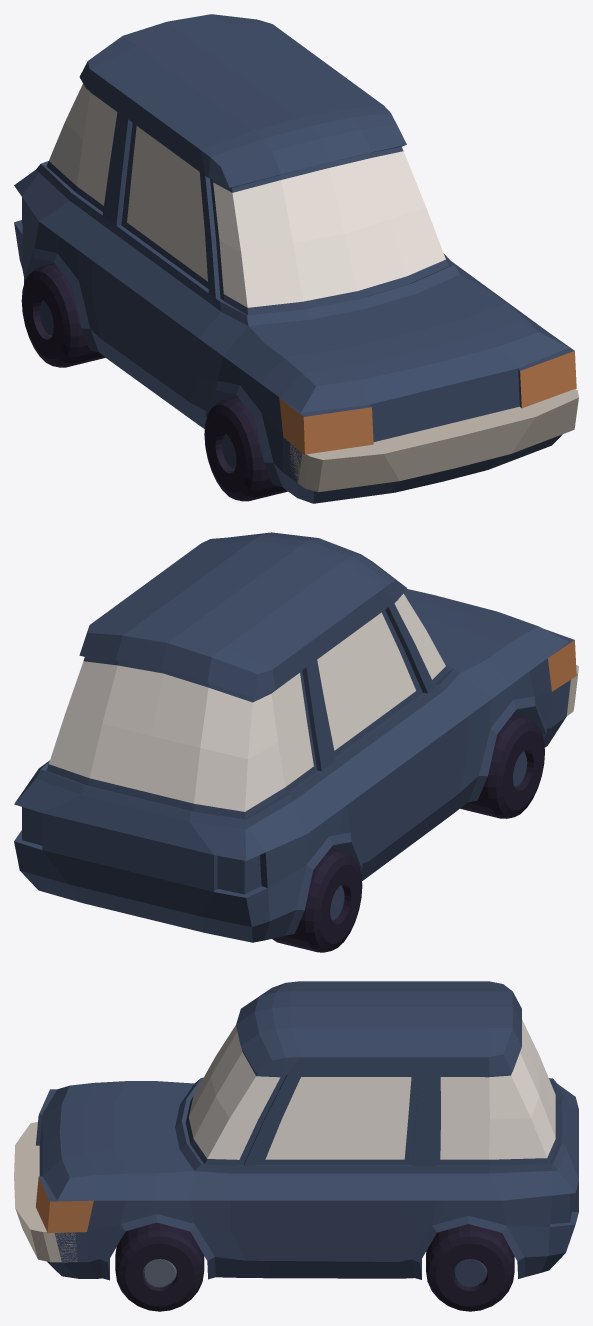
Rendered from car 10.fbx.
3 renders of one model, top to bottom at view 1: azimuth 30°, elevation 25°; view 2: azimuth 150°, elevation 25°; view 3: azimuth 270°, elevation 25°, orthographic. The views are drawn at different scales.
Visible parts, largest first — view 1: car 11; view 2: car 11; view 3: car 11.
Boxes of the visible parts, x1,y1,x2,y2 form: car 11: (14,14,578,503); car 11: (14,532,578,952); car 11: (14,981,578,1311).
Size of the model in its own units: 206 by 193 by 399.
